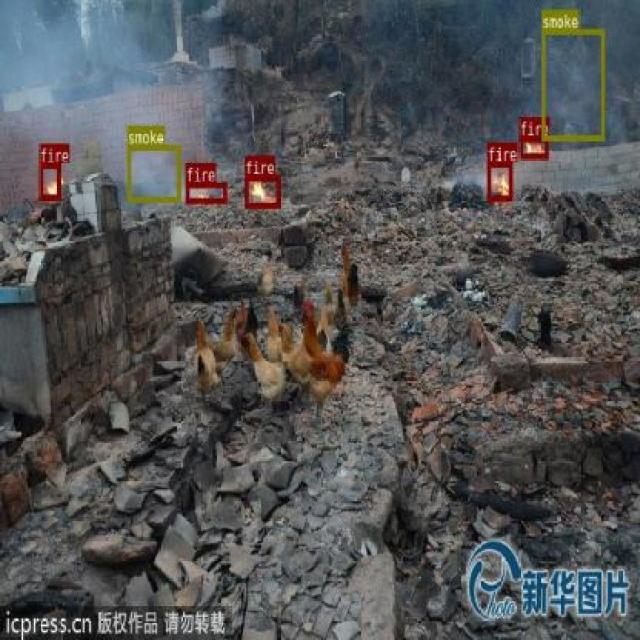Fire: (244, 175, 278, 208), (486, 162, 512, 200), (186, 182, 226, 204), (39, 162, 59, 198), (518, 136, 548, 158)
Smoke: (8, 16, 167, 91), (542, 29, 604, 140), (126, 144, 180, 201)
